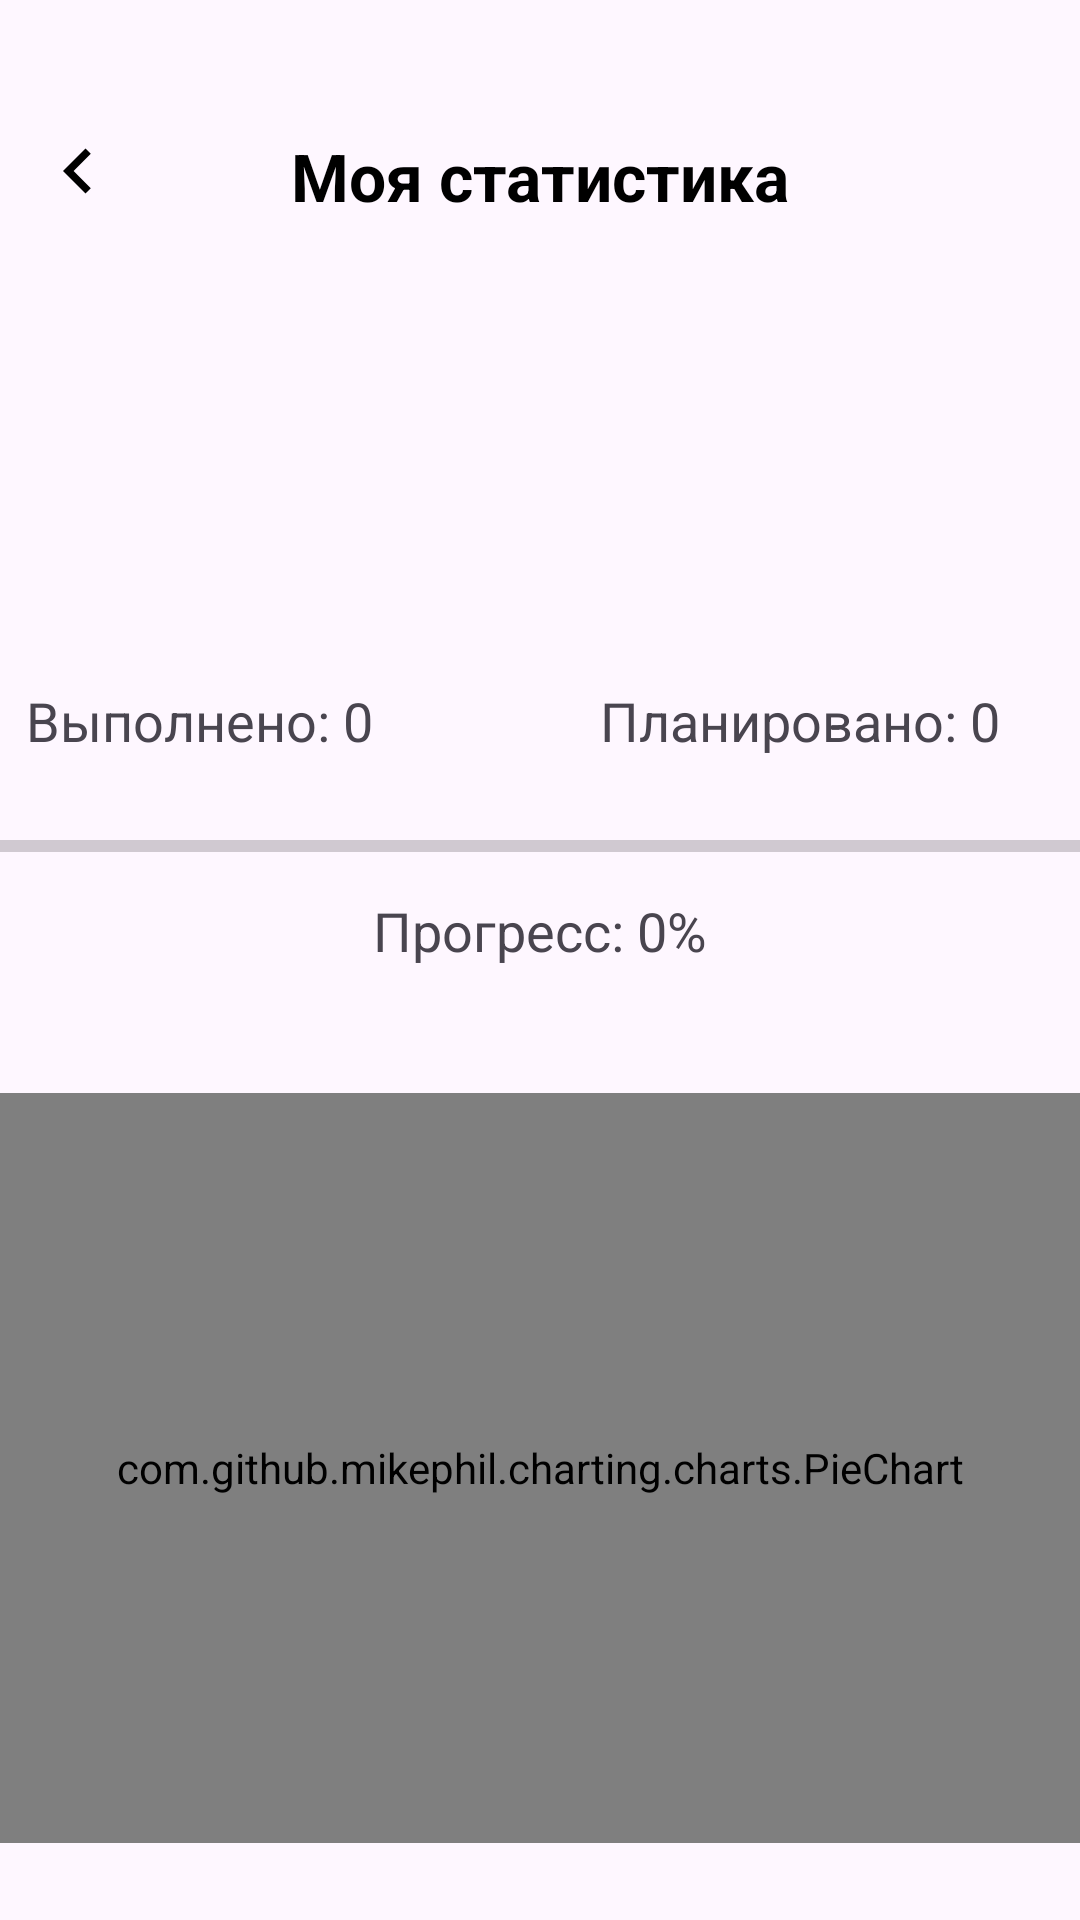

Where icons sit on this 1080x1920 app screen, as rect(x1, y1, x2, y2):
Нажмите, если хотите вернуться на предыдущий экран: rect(63, 148, 91, 194)
